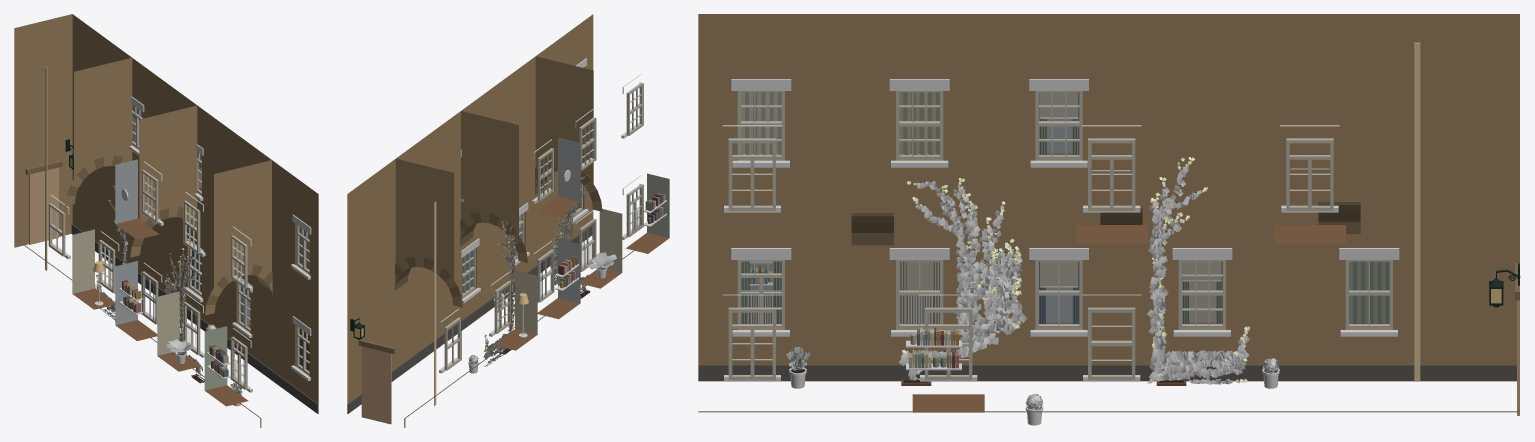
Rendered from alley_opposite.glb.
The picture shows the model from 3 angles, left to right: view 1: azimuth 30°, elevation 25°; view 2: azimuth 150°, elevation 25°; view 3: azimuth 270°, elevation 25°; orthographic projection. The views are drawn at different scales.
Parts seen in each view (by area): view 1: alley_opposite; view 2: alley_opposite; view 3: alley_opposite.
Part boxes in pixels (bbox=[...]): alley_opposite: bbox=[14, 14, 318, 427]; alley_opposite: bbox=[347, 14, 669, 427]; alley_opposite: bbox=[698, 14, 1520, 425].
Size of what is drawn, in the model's own units: 3.42 by 6.5 by 13.21.
